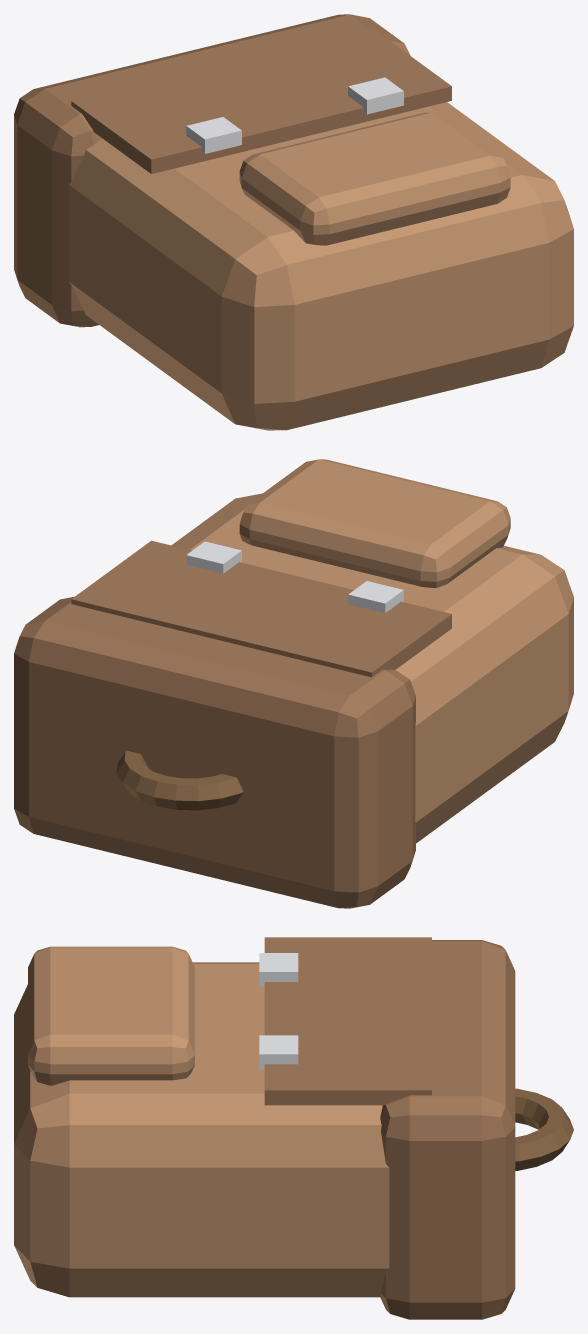
The model's file is backpack_held.gltf.
The picture shows the model from 3 angles, top to bottom: view 1: azimuth 30°, elevation 25°; view 2: azimuth 150°, elevation 25°; view 3: azimuth 270°, elevation 25°; orthographic projection. The views are drawn at different scales.
Parts seen in each view (by area): view 1: backpack_backpack_held; view 2: backpack_backpack_held; view 3: backpack_backpack_held.
Boxes of the visible parts, box(x1,y1,x2,y2) form: backpack_backpack_held: box(14, 14, 573, 430); backpack_backpack_held: box(14, 459, 573, 908); backpack_backpack_held: box(14, 937, 573, 1319).
Bounding box in the file's own units: 0.156 × 0.099 × 0.201.
